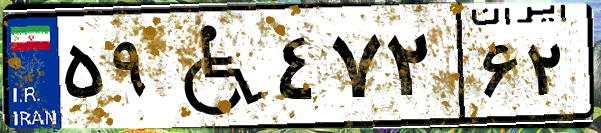2: (385, 28, 445, 110), (525, 38, 570, 115)
4: (270, 28, 330, 110)
5: (57, 26, 110, 100)
6: (475, 38, 525, 113)
7: (330, 28, 385, 110)
9: (110, 28, 158, 98)
ژ (معلولین و جانبازان): (158, 12, 270, 120)
